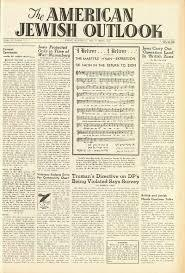Printing industry: (1, 2, 185, 272)
